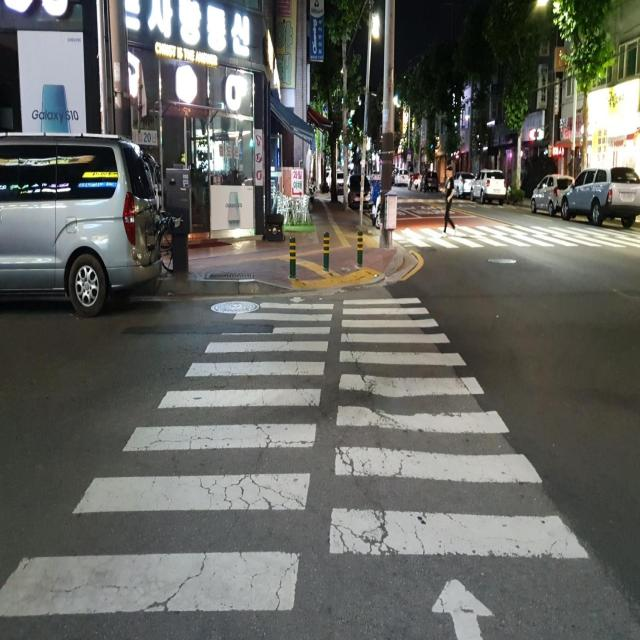횡단보도: (0, 291, 592, 640), (386, 220, 640, 248)
